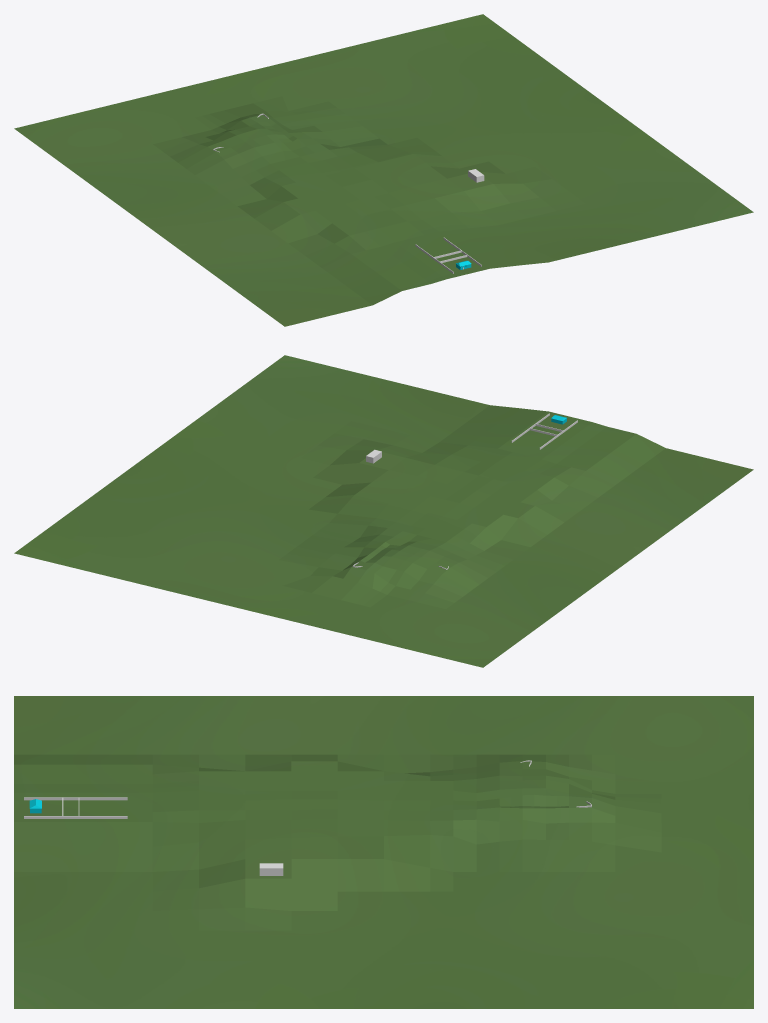
File: hill_1.glb
3 views of the same model, one above another, from view 1: azimuth 30°, elevation 25°; view 2: azimuth 150°, elevation 25°; view 3: azimuth 270°, elevation 25° (orthographic). The views are drawn at different scales.
Parts seen in each view (by area): view 1: Ground; view 2: Ground; view 3: Ground.
Part boxes in pixels (x1,y1,x2,y2): Ground: [14, 14, 753, 326]; Ground: [14, 355, 753, 667]; Ground: [14, 696, 753, 1008].
Size of what is drawn, in the model's own units: 500 by 15.43 by 500.
3 materials, 1 textured.
